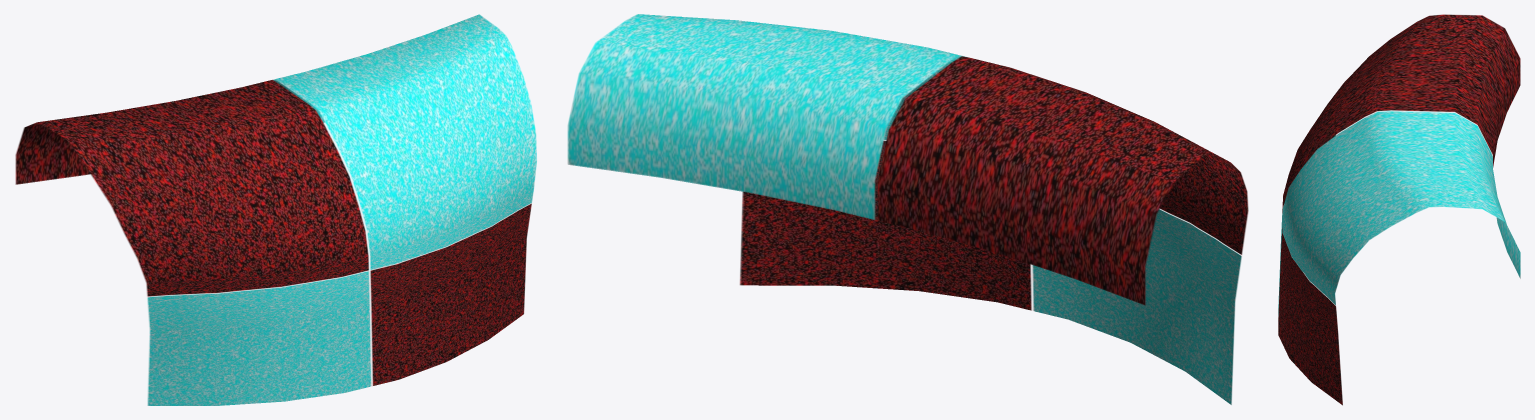
3 renders of one model, left to right at view 1: azimuth 30°, elevation 25°; view 2: azimuth 150°, elevation 25°; view 3: azimuth 270°, elevation 25°, orthographic. The views are drawn at different scales.
Visible parts, largest first — view 1: SM_VFX_ShortWaterfall_LOD0; view 2: SM_VFX_ShortWaterfall_LOD0; view 3: SM_VFX_ShortWaterfall_LOD0.
Boxes of the visible parts, box(x1,y1,x2,y2) form: SM_VFX_ShortWaterfall_LOD0: box(15, 14, 536, 405); SM_VFX_ShortWaterfall_LOD0: box(567, 14, 1248, 404); SM_VFX_ShortWaterfall_LOD0: box(1278, 14, 1520, 405).
Bounding box in the file's own units: 1.98 × 1.01 × 1.04.
1 material, 1 textured.
